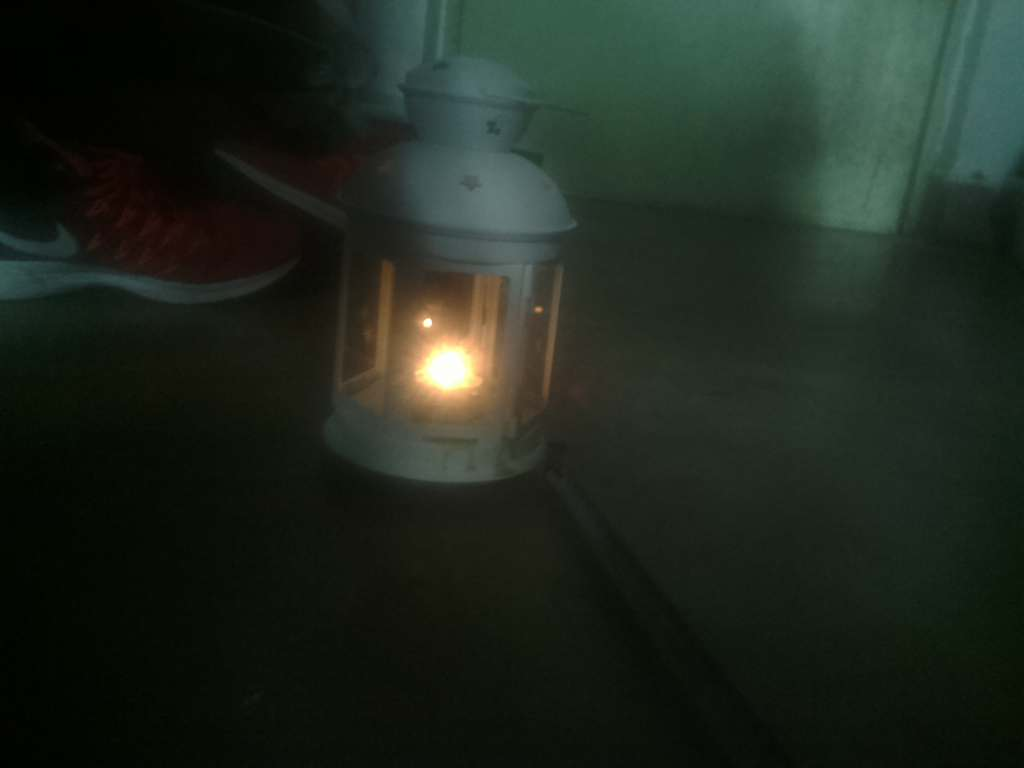fire: (391, 315, 510, 422)
